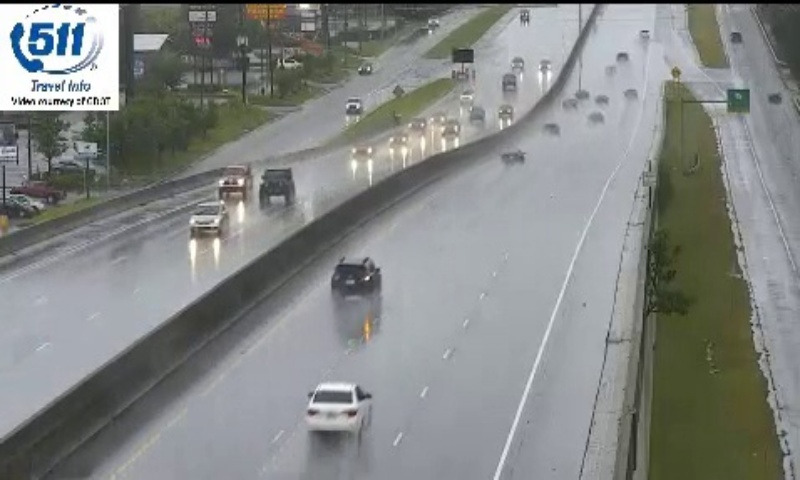car: (308, 382, 371, 430), (331, 257, 379, 299)
